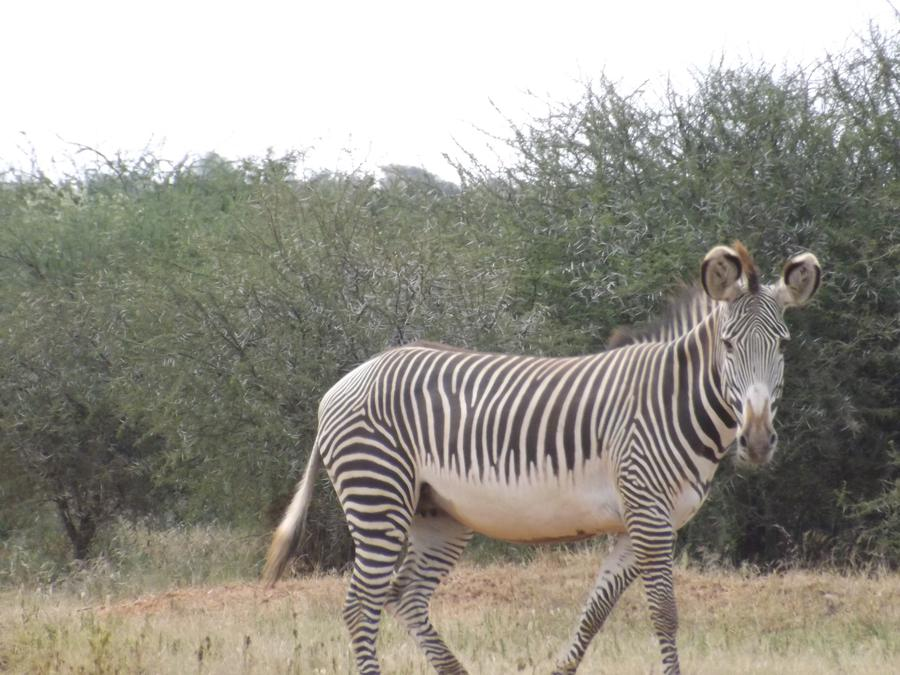zebra_grevys: (320, 324, 691, 526)
